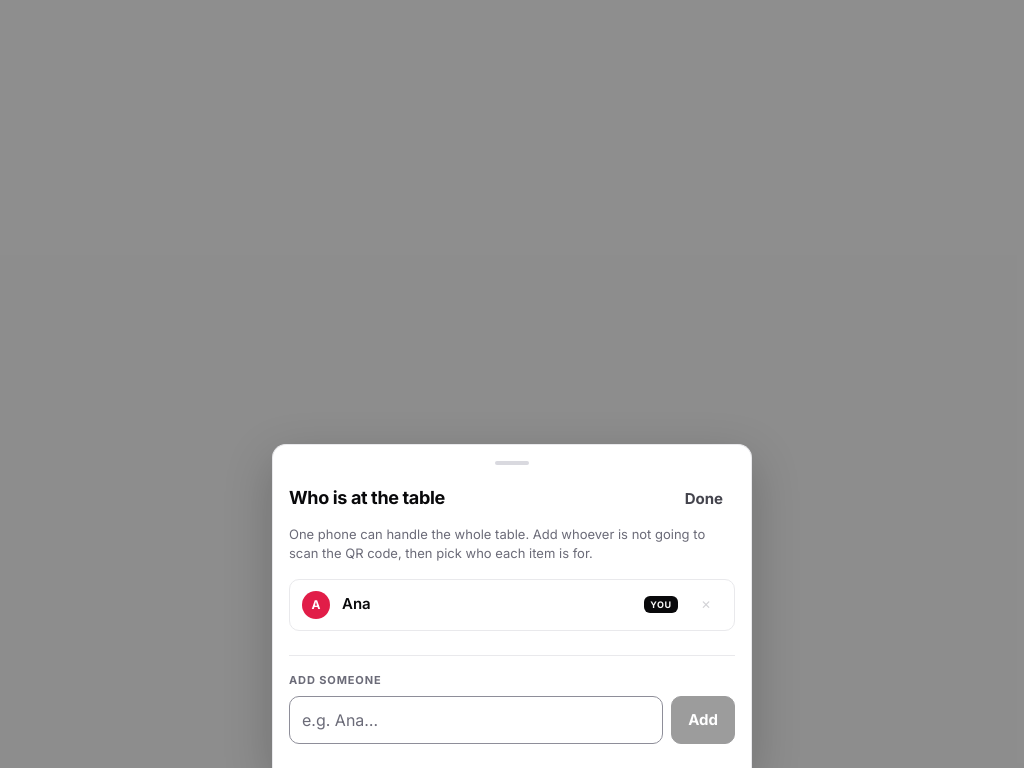
PeopleSheet › adds someone without taking over the phone
Type "Bruno" into the field labelled "Add someone". click: (476,720)
box: [289, 696, 663, 744]
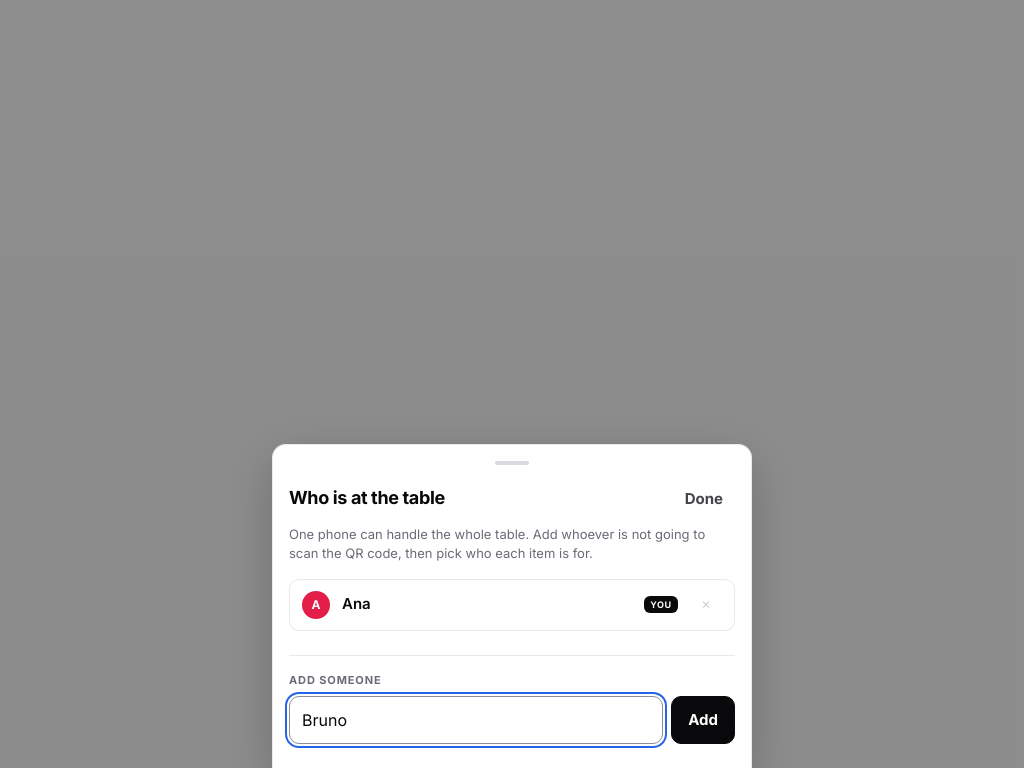
Click the button "Add". click: (703,720)
box: [671, 696, 735, 744]
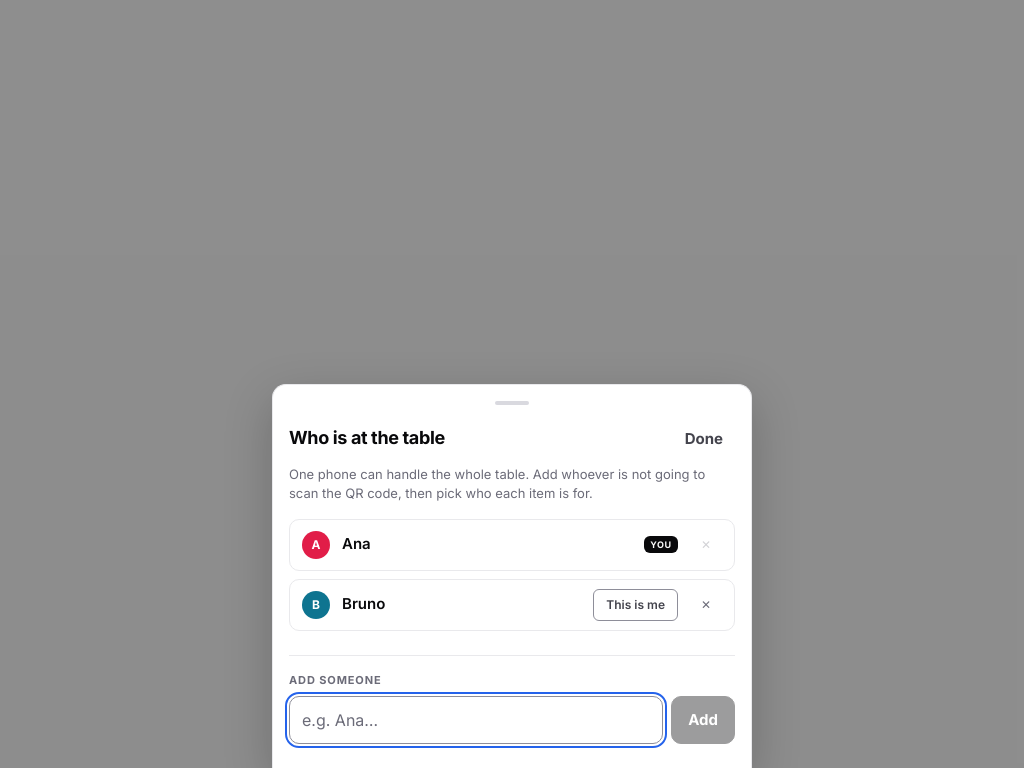
Now the text "Bruno" is shown, box [342, 594, 385, 613]
